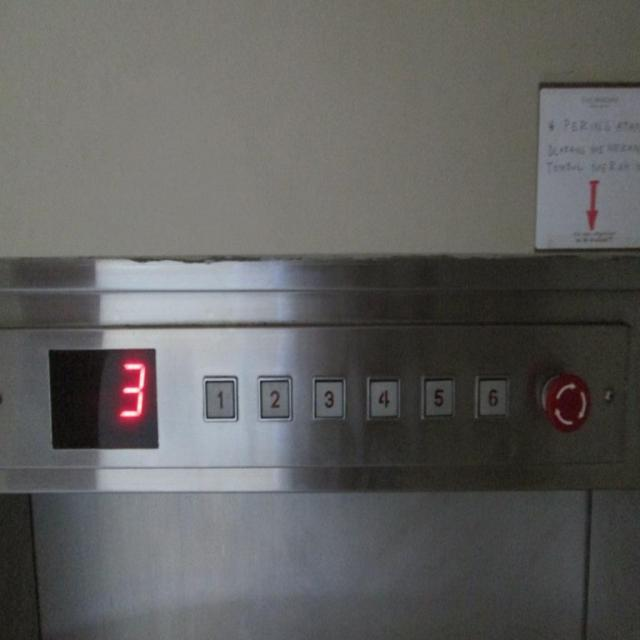1: (202, 375, 237, 422)
2: (256, 374, 293, 422)
3: (311, 375, 345, 419)
4: (366, 372, 400, 422)
5: (420, 377, 454, 419)
6: (476, 374, 510, 419)
led: (50, 348, 158, 449)
text: (535, 368, 594, 432)
